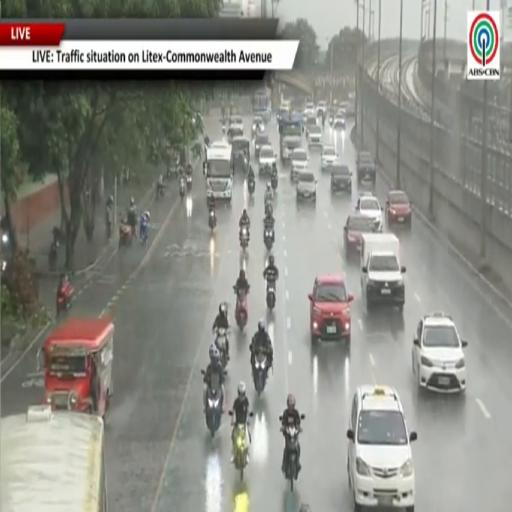bus: (0, 406, 107, 511), (206, 141, 233, 201)
car: (347, 384, 417, 511), (412, 312, 467, 392), (309, 275, 353, 344), (344, 214, 374, 260), (355, 196, 383, 232), (386, 190, 411, 228), (330, 164, 352, 194), (357, 152, 376, 185), (297, 170, 316, 201), (259, 144, 276, 177), (291, 148, 308, 181), (320, 145, 338, 171), (255, 134, 270, 161), (307, 125, 322, 147), (228, 126, 244, 143), (277, 103, 290, 122), (306, 116, 317, 137), (252, 117, 264, 136), (229, 116, 244, 131), (333, 115, 345, 130), (304, 102, 315, 118), (316, 101, 326, 116), (358, 190, 374, 197), (337, 107, 345, 117)
jeepney: (38, 317, 114, 418)
motorcycle: (284, 426, 301, 491), (233, 422, 250, 481), (205, 383, 223, 437), (56, 281, 74, 316), (234, 287, 248, 330), (253, 352, 267, 395), (215, 328, 228, 370), (119, 222, 133, 248), (266, 281, 275, 312), (49, 240, 58, 271), (240, 226, 250, 251), (264, 229, 274, 250), (140, 220, 148, 245), (209, 210, 216, 231), (270, 174, 278, 192), (156, 184, 164, 199), (179, 178, 185, 198), (248, 179, 255, 196), (265, 202, 273, 216), (265, 189, 273, 203), (186, 174, 192, 190), (203, 162, 207, 177)
truck: (361, 233, 405, 312), (278, 113, 304, 163), (252, 87, 271, 122)
